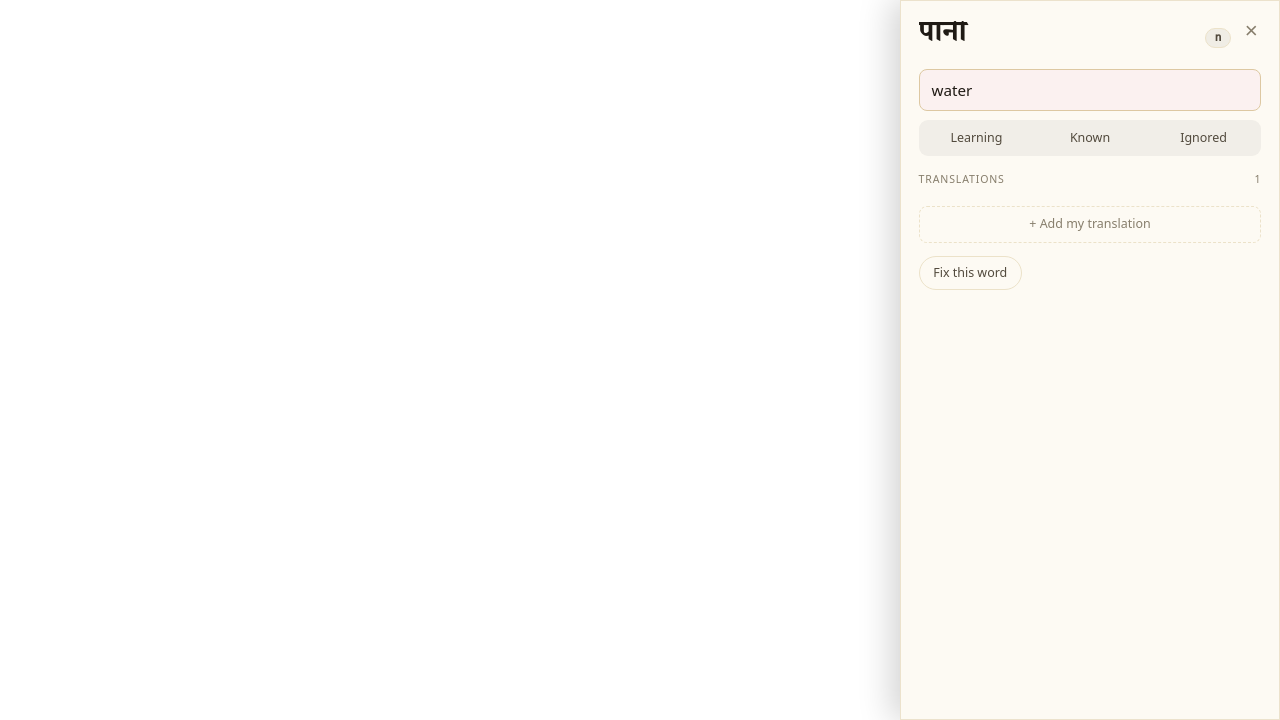
Test: WordPopup — primary translation editor (above status buttons) › clicking an existing primary opens the editor pre-filled and PATCHes on Enter
Click the button with test id "primary-translation-edit" at (952,90), box [919,69,1261,111]
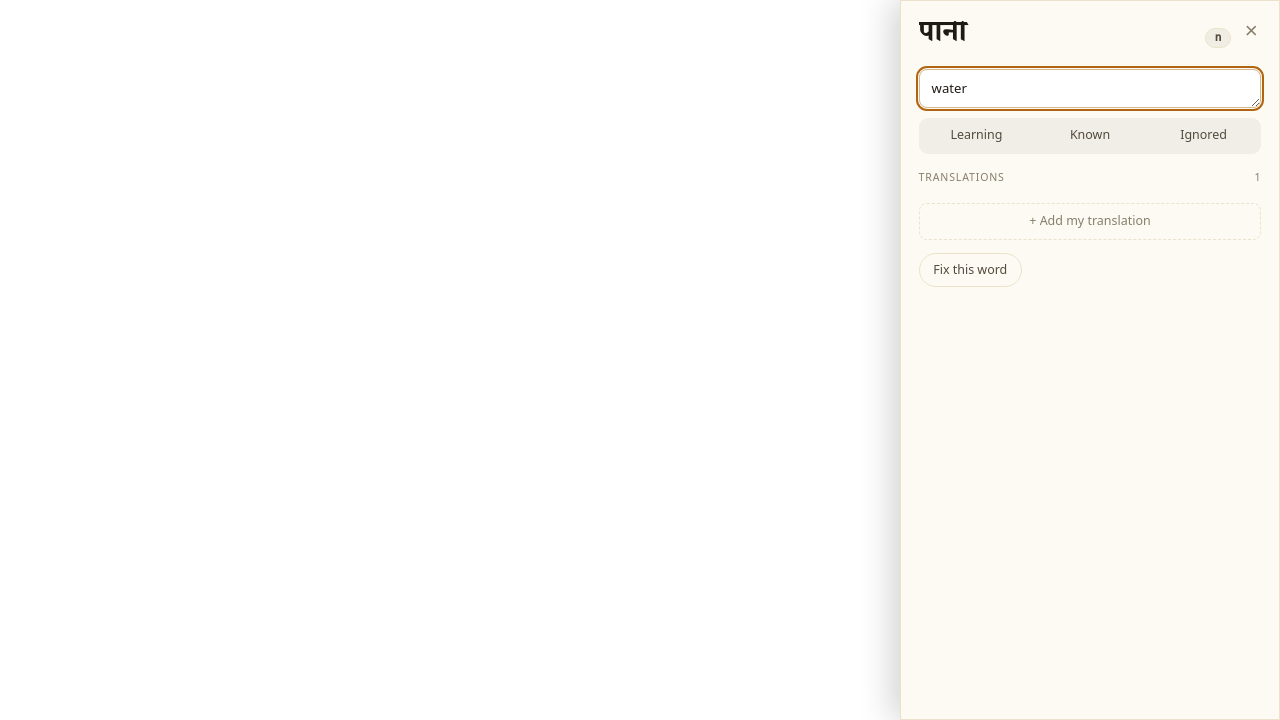
Expected: the text box named "Your translation" holds "water"
Replace the text in the text box named "Your translation" with "fresh water" at (1090,89), box [919,69,1261,108]
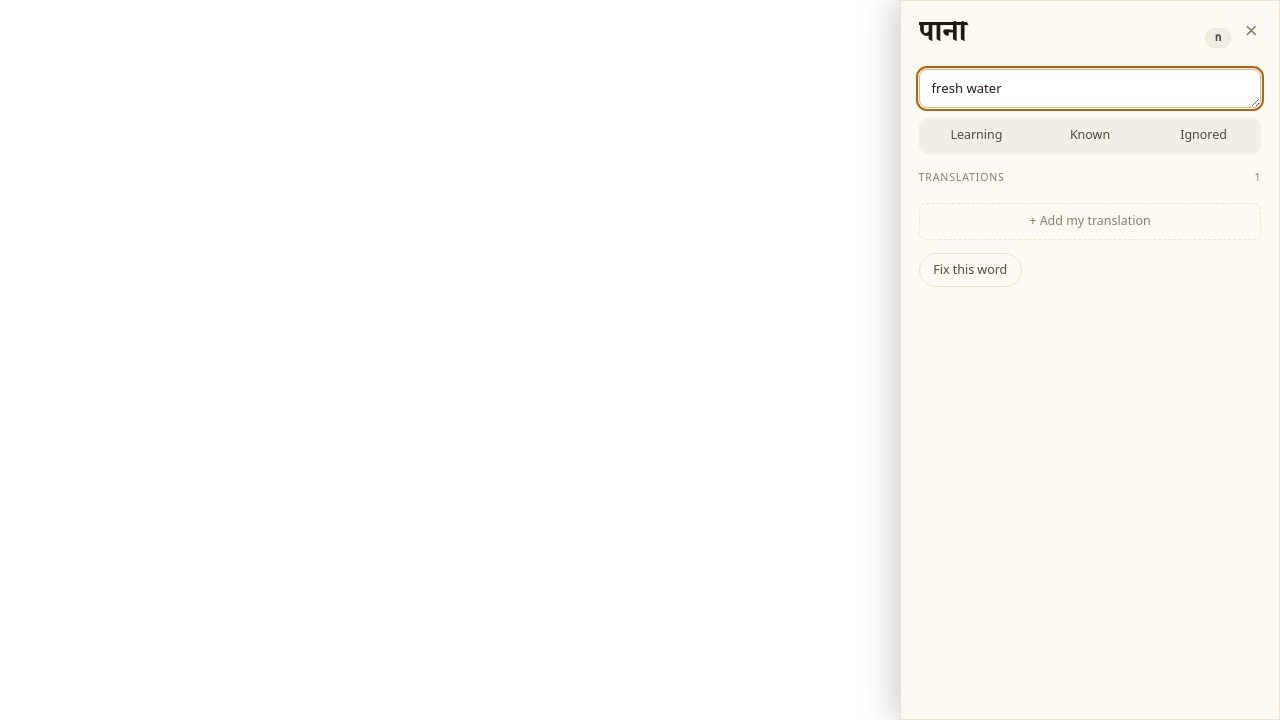
Press Enter in the text box named "Your translation", box [919,69,1261,108]
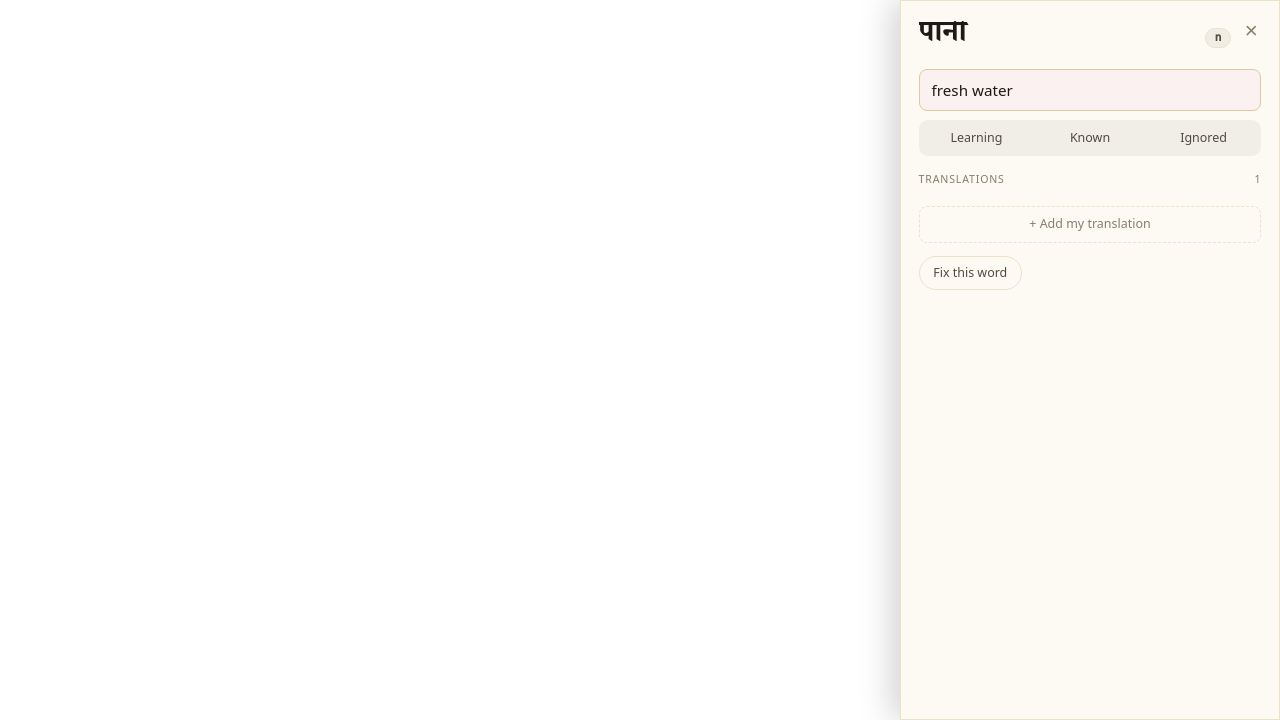
Expected: the text "fresh water" is shown, [932,80,1013,100]
